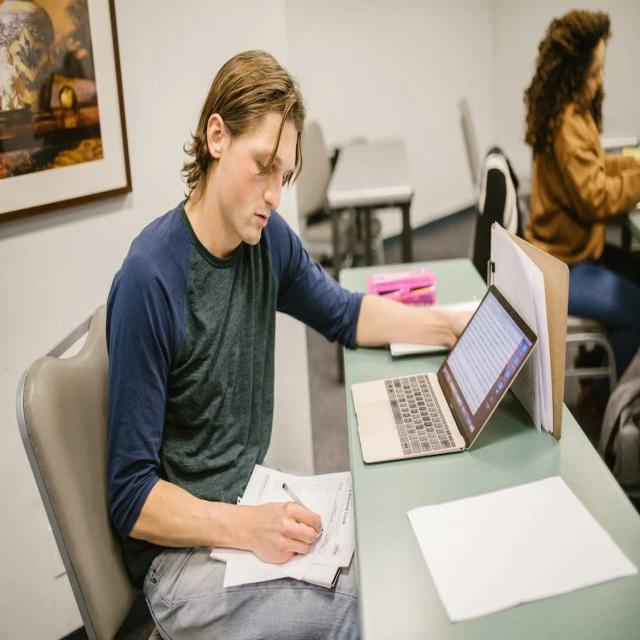studying-person: (98, 42, 560, 640)
